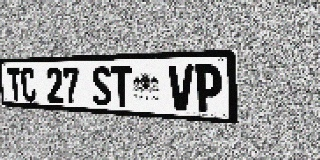2: (46, 67, 64, 103)
7: (62, 67, 81, 104)
C: (20, 68, 37, 102)
P: (194, 64, 222, 113)
S: (91, 66, 112, 106)
T: (111, 66, 133, 108), (7, 68, 23, 101)
V: (168, 65, 194, 111)
